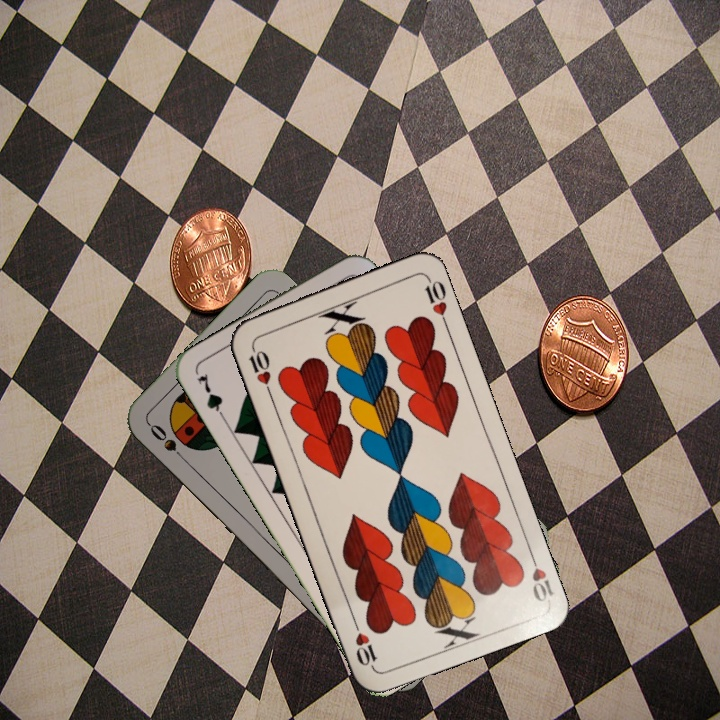G7: (193, 369, 230, 425)
H10: (525, 547, 556, 605), (244, 340, 274, 397)
SO: (145, 420, 191, 467)
